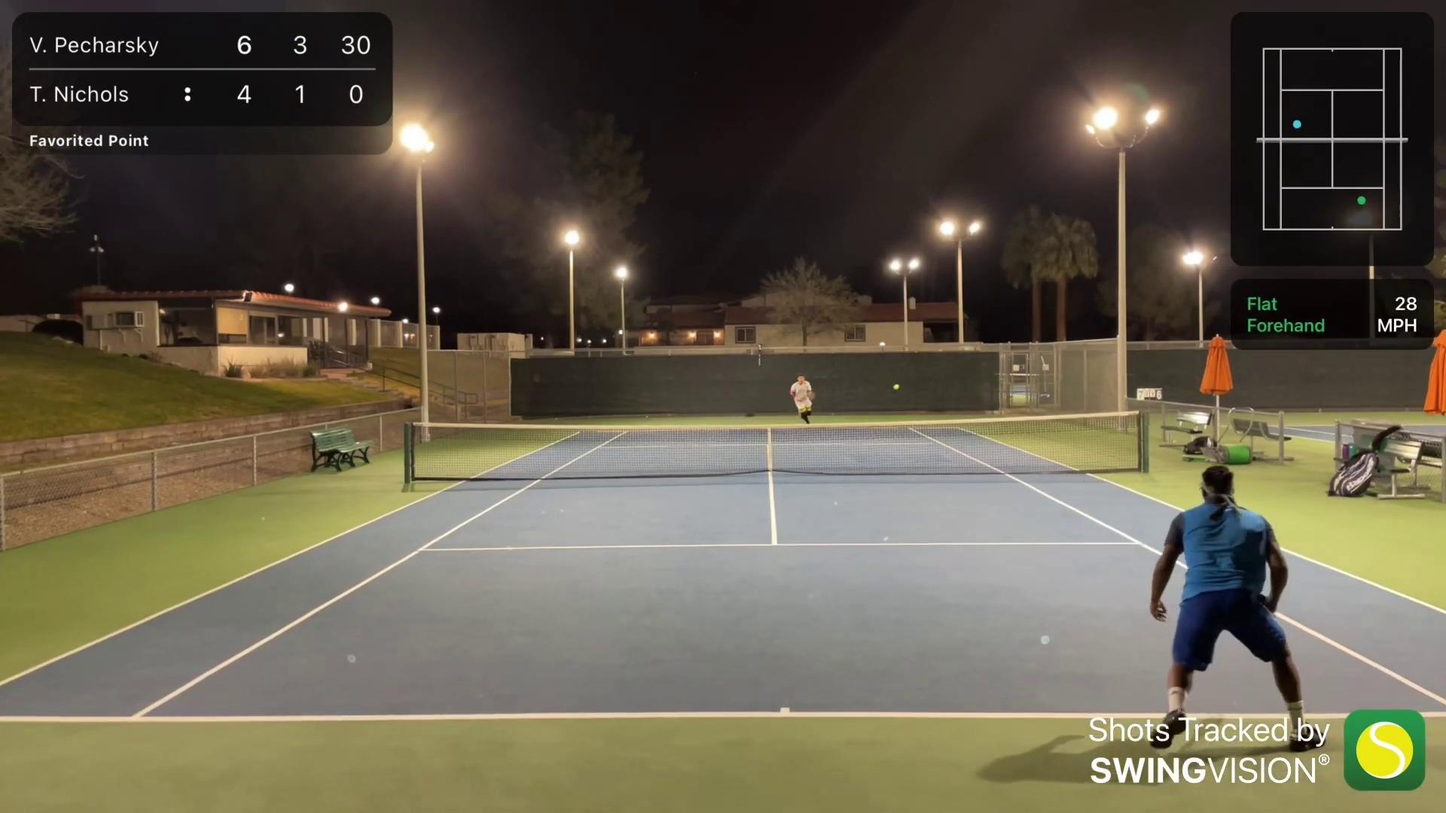ball: (891, 384, 898, 391)
